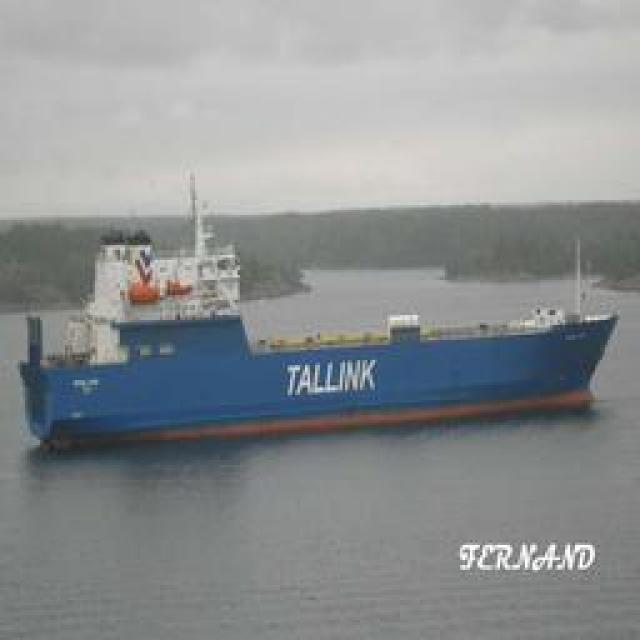Ship: (14, 264, 627, 454)
